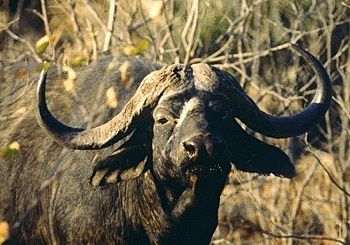buffalo: (0, 45, 329, 245)
